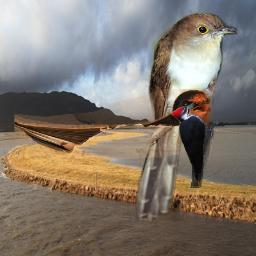Cuckoo: (135, 11, 237, 221)
Swallow: (14, 88, 212, 160)
Woodpecker: (170, 102, 218, 188)
